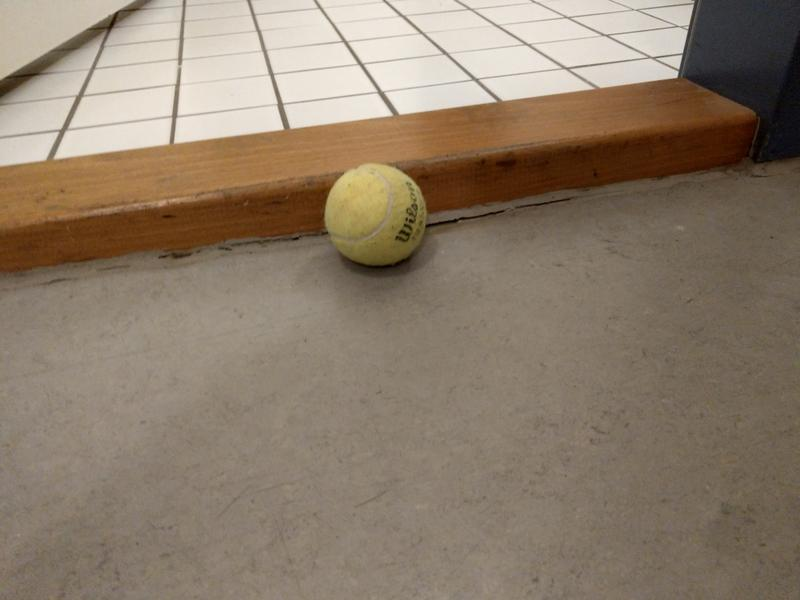Tennisball: (321, 161, 431, 270)
